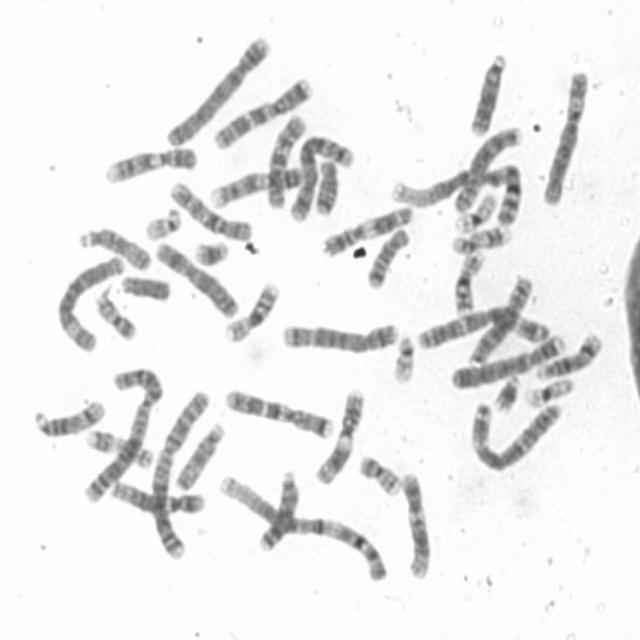A1: (216, 473, 392, 584), (390, 165, 522, 230)
A2: (80, 367, 164, 503), (149, 389, 213, 561)
A3: (466, 399, 565, 471), (417, 304, 550, 348)
B4: (165, 35, 272, 149), (452, 332, 566, 392)
B5: (289, 135, 355, 221), (283, 322, 402, 353)
C10: (168, 180, 252, 243), (268, 113, 306, 209)
C11: (316, 387, 369, 485), (322, 204, 416, 258)
C12: (397, 470, 432, 582), (111, 479, 206, 518)
C6: (54, 254, 129, 354), (542, 71, 594, 207)
C7: (214, 77, 313, 152), (218, 388, 334, 441)
C8: (452, 123, 524, 215), (468, 274, 537, 368)
C9: (209, 163, 318, 211), (106, 144, 200, 186)
D13: (257, 468, 300, 556), (471, 54, 509, 140)
D14: (537, 336, 607, 382), (35, 399, 106, 440)
D15: (174, 421, 229, 493), (80, 224, 150, 273)
E16: (226, 282, 284, 346), (454, 246, 488, 318)
E17: (84, 429, 154, 469), (452, 224, 514, 255)
E18: (367, 226, 411, 292), (314, 159, 340, 218)
F19: (452, 190, 502, 236), (524, 376, 579, 409)
F20: (91, 288, 138, 343), (356, 454, 401, 497)
G21: (494, 372, 523, 416), (192, 240, 230, 266)
G22: (392, 334, 416, 387), (146, 207, 181, 243)
X: (154, 237, 239, 319)
Y: (122, 274, 173, 303)
